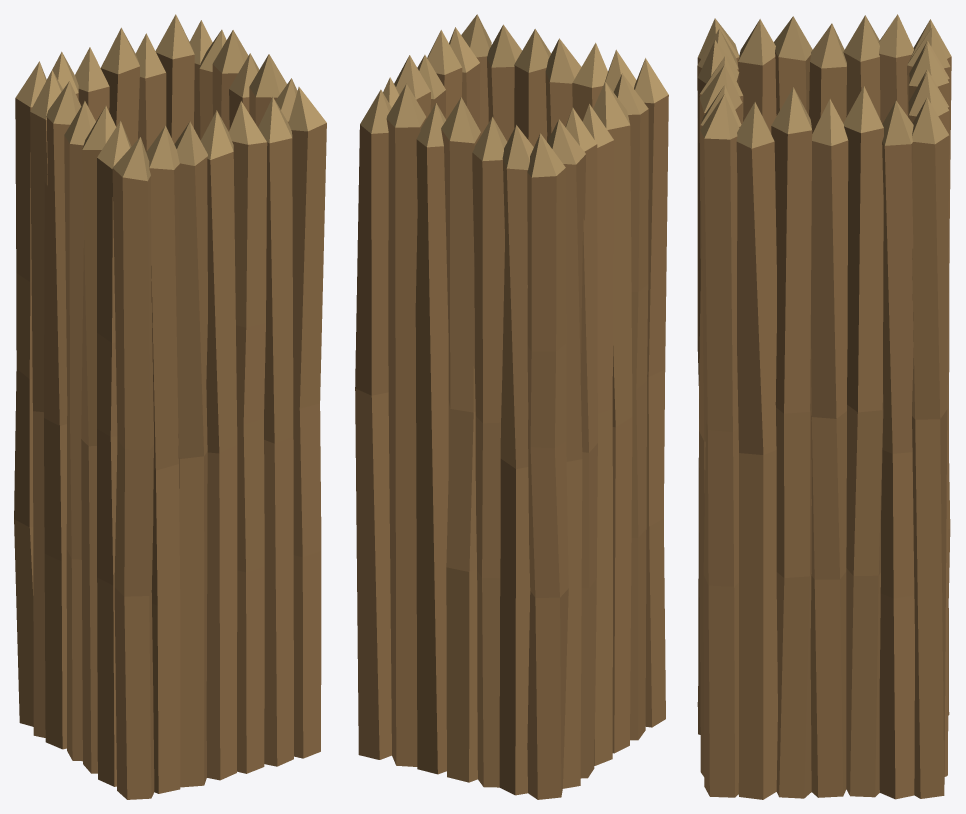
File: castle-wood_tower.fbx
3 views of the same model, side by side, from view 1: azimuth 30°, elevation 25°; view 2: azimuth 150°, elevation 25°; view 3: azimuth 270°, elevation 25° (orthographic). The views are drawn at different scales.
Parts seen in each view (by area): view 1: castle-wood_tower; view 2: castle-wood_tower; view 3: castle-wood_tower.
Part boxes in pixels (x1,y1,x2,y2): castle-wood_tower: [14, 14, 326, 799]; castle-wood_tower: [355, 14, 668, 799]; castle-wood_tower: [697, 14, 951, 799].
Bounding box in the file's own units: 2.1 × 6.5 × 2.13.
